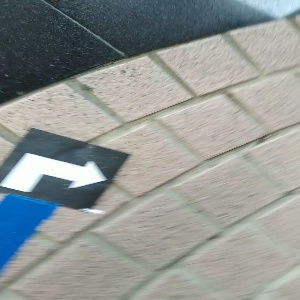right: (0, 127, 132, 210)
